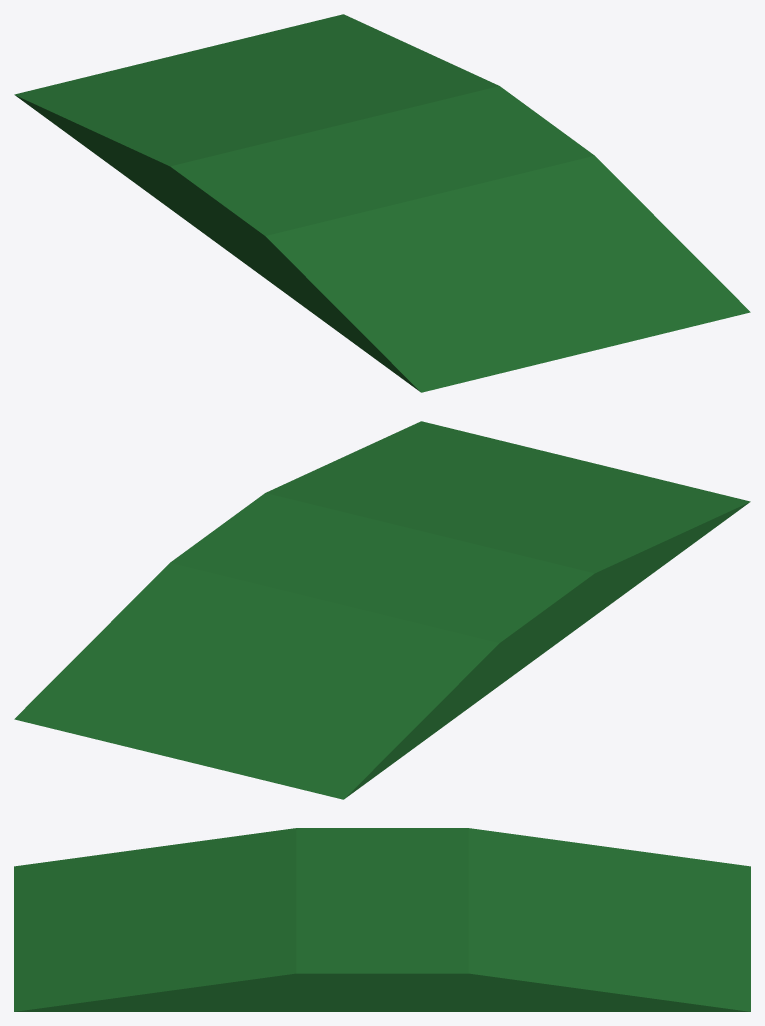
Rendered from ramp.dae.
3 renders of one model, top to bottom at view 1: azimuth 30°, elevation 25°; view 2: azimuth 150°, elevation 25°; view 3: azimuth 270°, elevation 25°, orthographic. The views are drawn at different scales.
Parts seen in each view (by area): view 1: ramp; view 2: ramp; view 3: ramp.
Part boxes in pixels (left/top/right/bottom): ramp: left=14, top=14, right=750, bottom=392; ramp: left=14, top=421, right=750, bottom=799; ramp: left=14, top=828, right=750, bottom=1011.
Bounding box in the file's own units: 2.44 × 5.22 × 0.3.
